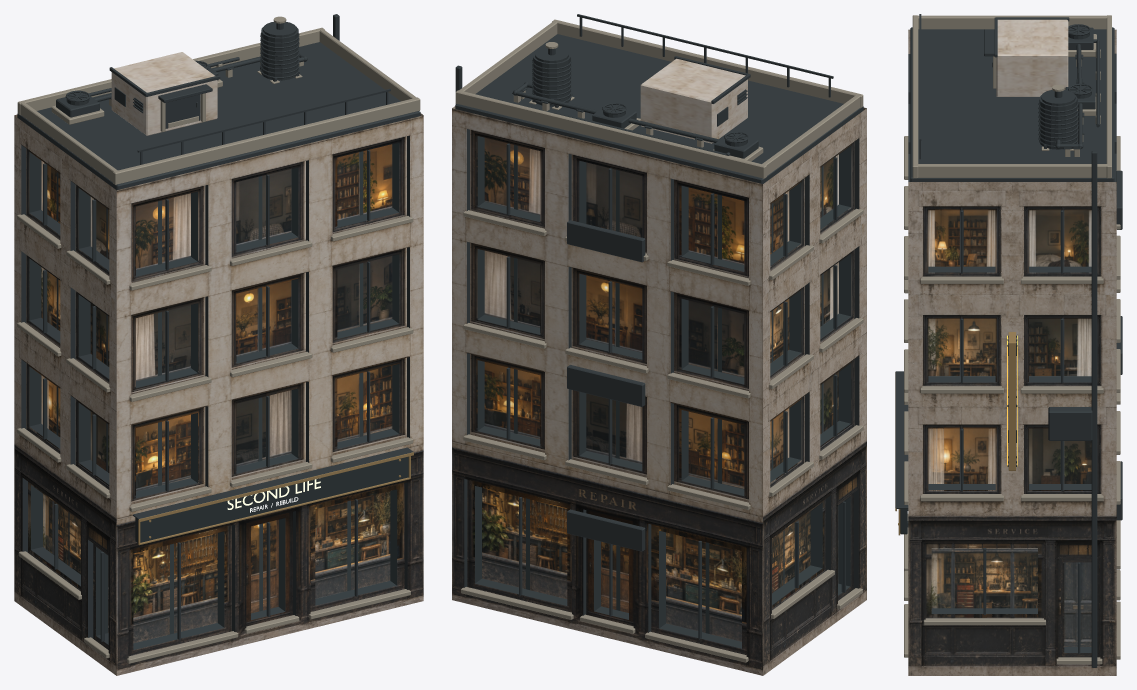
File: repair-relief-v5.glb
3 renders of one model, left to right at view 1: azimuth 30°, elevation 25°; view 2: azimuth 150°, elevation 25°; view 3: azimuth 270°, elevation 25°, orthographic.
Visible parts, largest first — view 1: ReliefBuilding_WallFront, ReliefBuilding_Metal, ReliefBuilding_RoomFront, ReliefBuilding_WallSide, ReliefBuilding_Stone, ReliefBuilding_RoomSide, Identity_RI_Enamel, RR_Metal, Identity_RI_Brass, Identity_RB_Metal, RR_Stone; view 2: ReliefBuilding_WallFront, ReliefBuilding_Metal, ReliefBuilding_RoomFront, ReliefBuilding_WallSide, ReliefBuilding_Stone, ReliefBuilding_RoomSide, RR_Metal, RR_Stone; view 3: ReliefBuilding_WallSide, ReliefBuilding_Metal, ReliefBuilding_RoomSide, ReliefBuilding_Stone, RR_Metal, Identity_RB_Metal, Identity_RI_Brass, RR_Stone.
Boxes of the visible parts, x1,y1,x2,y2 form: ReliefBuilding_WallFront: (14,114,423,675); ReliefBuilding_Metal: (17,14,420,649); ReliefBuilding_RoomFront: (133,144,392,643); ReliefBuilding_WallSide: (14,113,423,675); ReliefBuilding_Stone: (17,27,420,663); ReliefBuilding_RoomSide: (41,161,109,632); Identity_RI_Enamel: (135,456,408,542); RR_Metal: (56,22,307,128); Identity_RI_Brass: (138,452,413,545); Identity_RB_Metal: (132,447,413,519); RR_Stone: (51,16,303,132); ReliefBuilding_WallFront: (452,107,866,675); ReliefBuilding_Metal: (455,14,863,648); ReliefBuilding_RoomFront: (482,137,744,641); ReliefBuilding_WallSide: (452,106,866,675); ReliefBuilding_Stone: (455,19,863,662); ReliefBuilding_RoomSide: (770,154,838,593); RR_Metal: (512,47,758,158); RR_Stone: (513,42,763,161); ReliefBuilding_WallSide: (908,29,1116,675); ReliefBuilding_Metal: (908,14,1122,667); ReliefBuilding_RoomSide: (928,210,1091,646); ReliefBuilding_Stone: (904,15,1120,664); RR_Metal: (984,17,1099,149); Identity_RB_Metal: (895,342,1016,526); Identity_RI_Brass: (895,332,1015,535); RR_Stone: (993,34,1100,156).
Bounding box in the file's own units: 9.94 × 15.25 × 5.67.
Materials: 13 (5 with a texture image).
